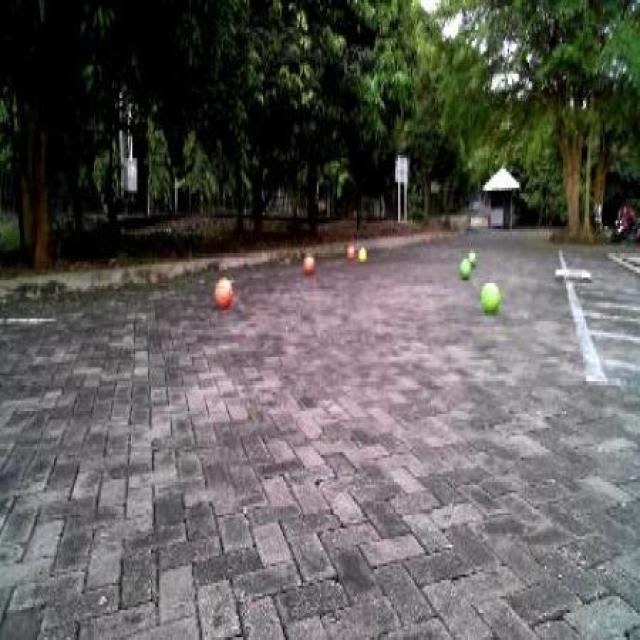buoy: (211, 265, 236, 315), (478, 273, 500, 319), (301, 251, 315, 275), (458, 253, 472, 277)
